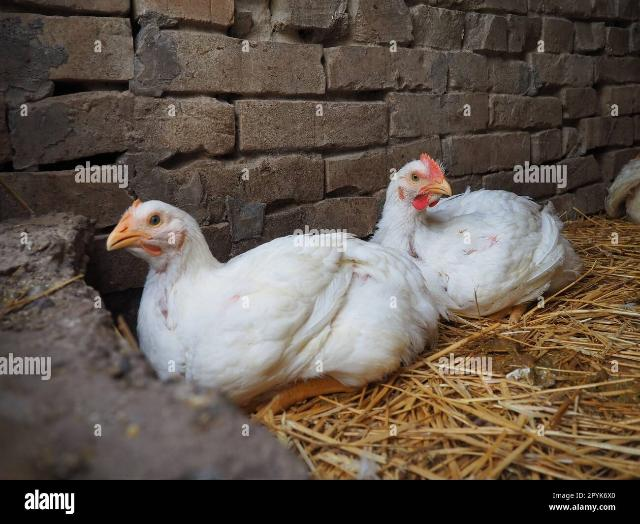Chicken: (105, 195, 441, 421), (373, 154, 588, 322)
